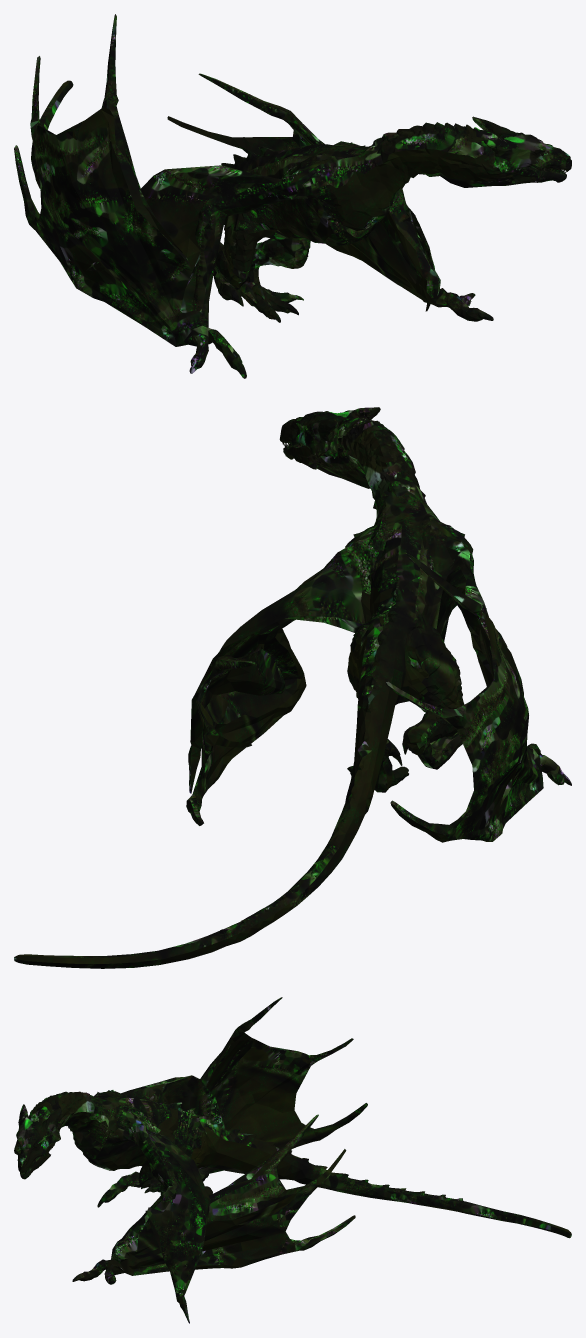
The model's file is frame_0007_uv.obj.
The picture shows the model from 3 angles, top to bottom: view 1: azimuth 30°, elevation 25°; view 2: azimuth 150°, elevation 25°; view 3: azimuth 270°, elevation 25°; orthographic projection. The views are drawn at different scales.
Parts seen in each view (by area): view 1: pMesh1; view 2: pMesh1; view 3: pMesh1.
Boxes of the visible parts, x1=… form: pMesh1: x1=14, y1=14, x2=571, y2=378; pMesh1: x1=14, y1=407, x2=571, y2=968; pMesh1: x1=14, y1=997, x2=571, y2=1323.
Size of the model in its own units: 1.19 by 1 by 2.15.
